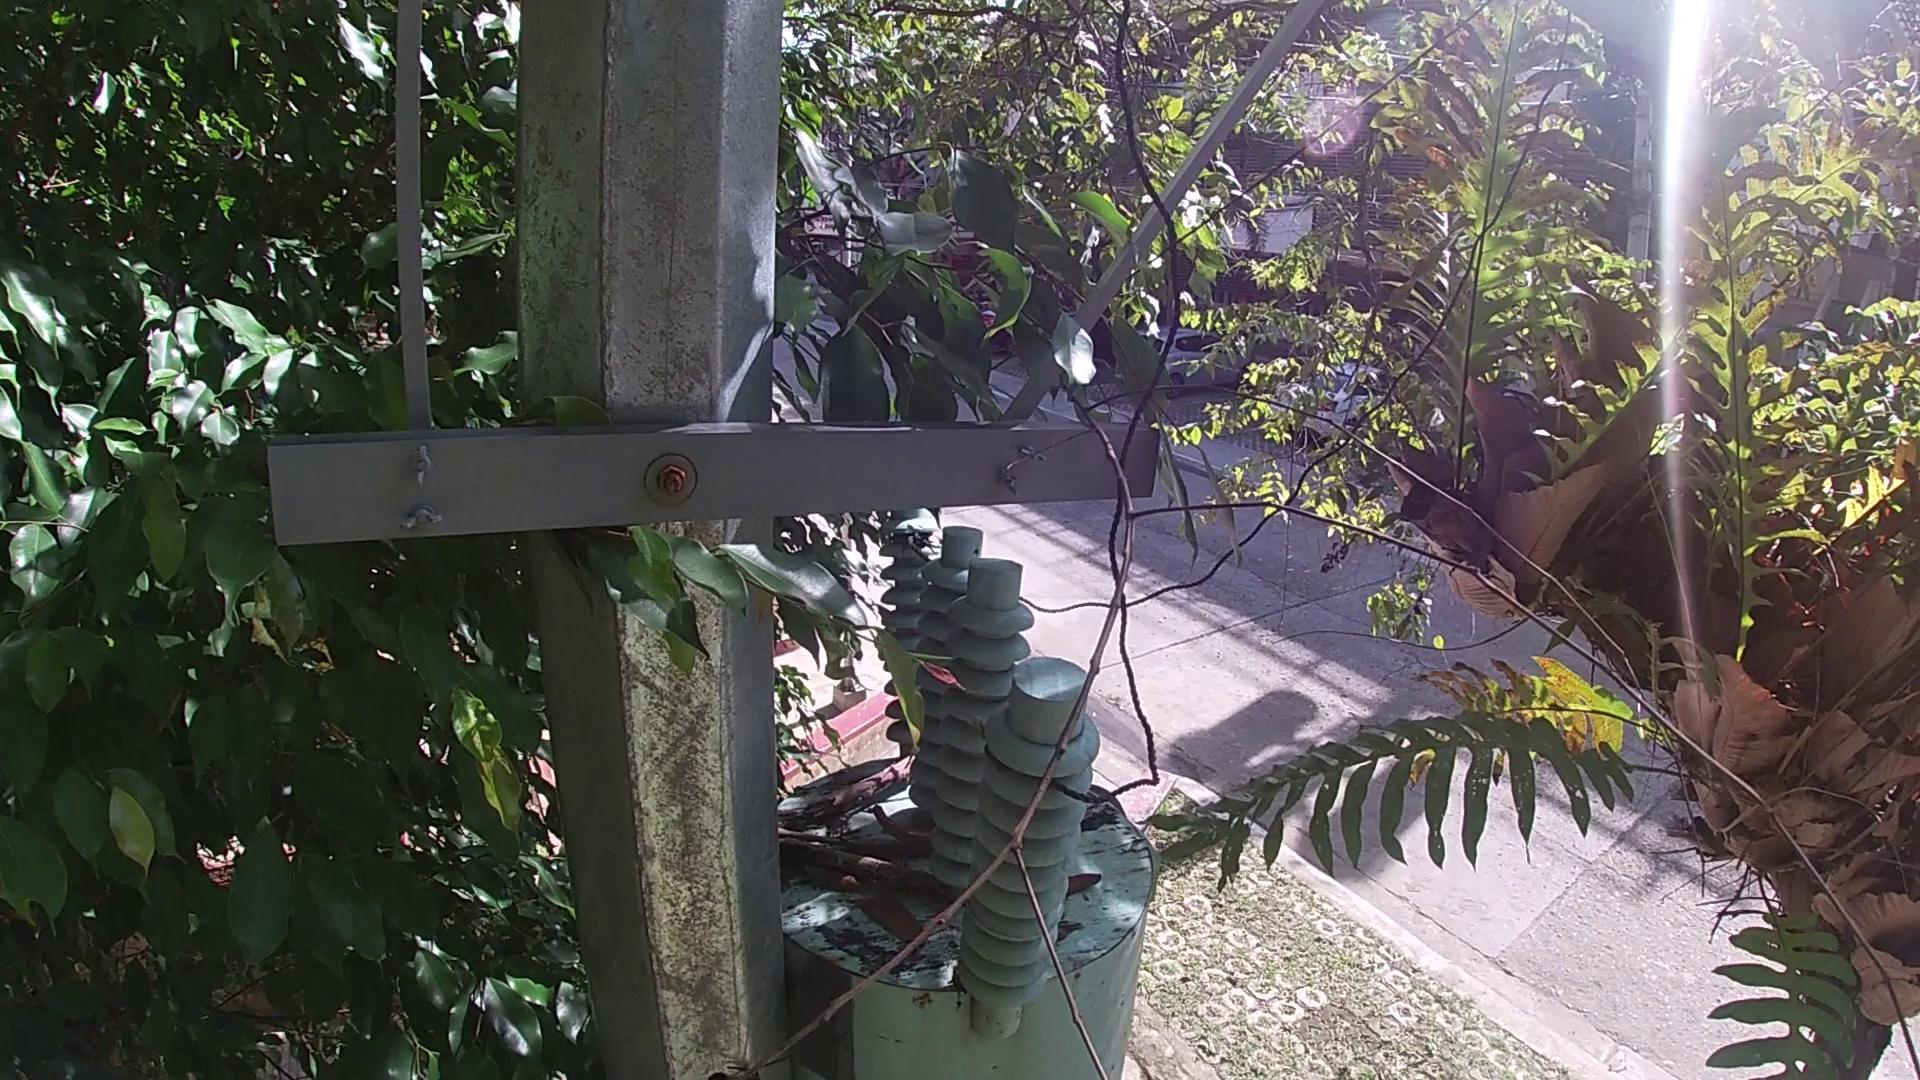leaf: (841, 893, 928, 945), (796, 862, 862, 891), (1064, 869, 1102, 899)
tree branch: (725, 367, 1920, 1079), (781, 835, 963, 905), (808, 753, 916, 827)
